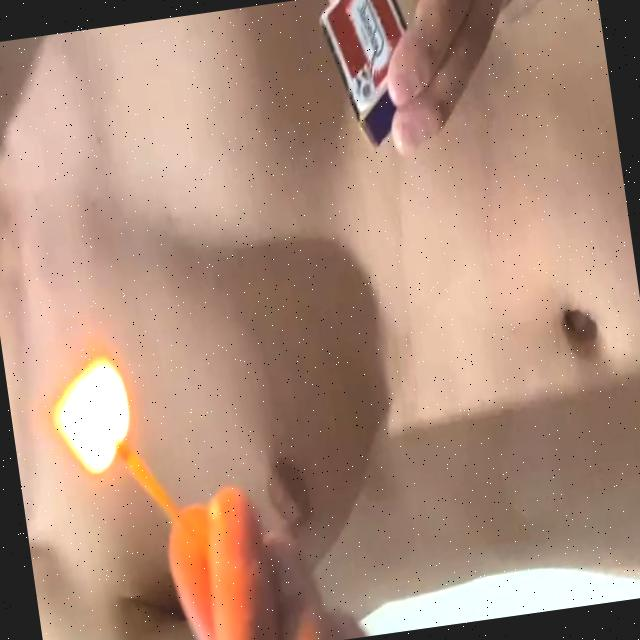fire: (32, 347, 141, 485)
